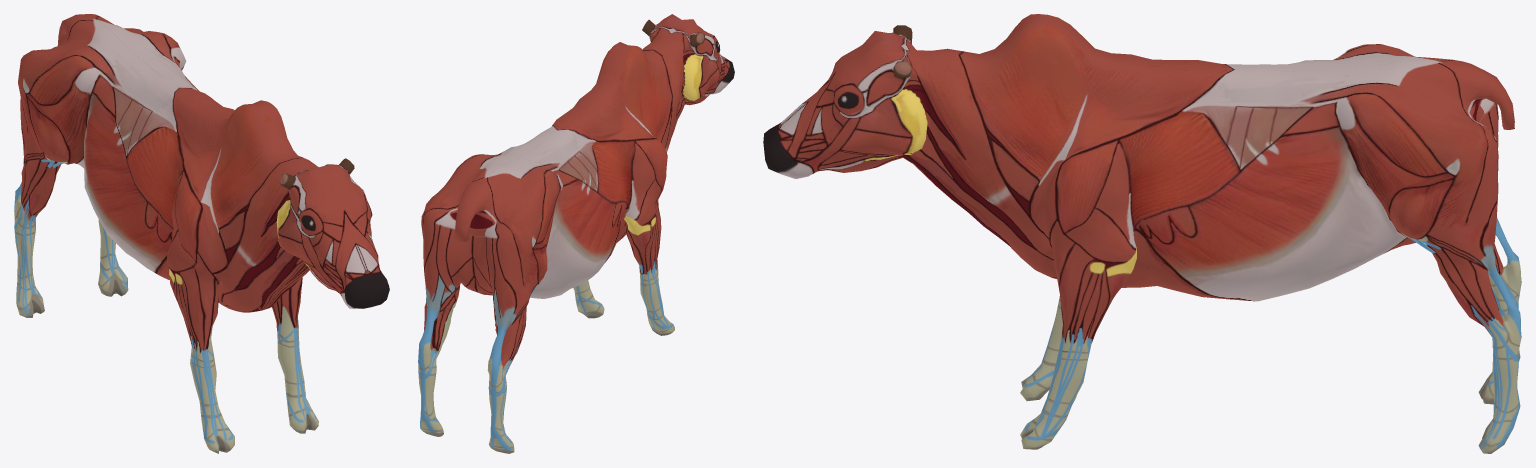
Rendered from boi_cortes.glb.
3 renders of one model, left to right at view 1: azimuth 30°, elevation 25°; view 2: azimuth 150°, elevation 25°; view 3: azimuth 270°, elevation 25°, orthographic. The views are drawn at different scales.
Parts seen in each view (by area): view 1: Retopo; view 2: Retopo; view 3: Retopo.
Boxes of the visible parts, bbox=[...] form: Retopo: bbox=[14, 14, 389, 453]; Retopo: bbox=[418, 14, 734, 453]; Retopo: bbox=[763, 14, 1521, 453].
Size of the model in its own units: 0.2346 by 0.5945 by 1.
Materials: 1 (1 with a texture image).
